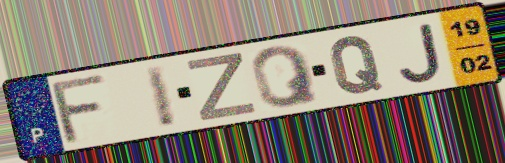F: (49, 71, 111, 147)
I: (141, 62, 180, 131)
J: (396, 21, 446, 85)
Q: (248, 43, 323, 110), (327, 33, 386, 96)
Z: (183, 51, 260, 124)
